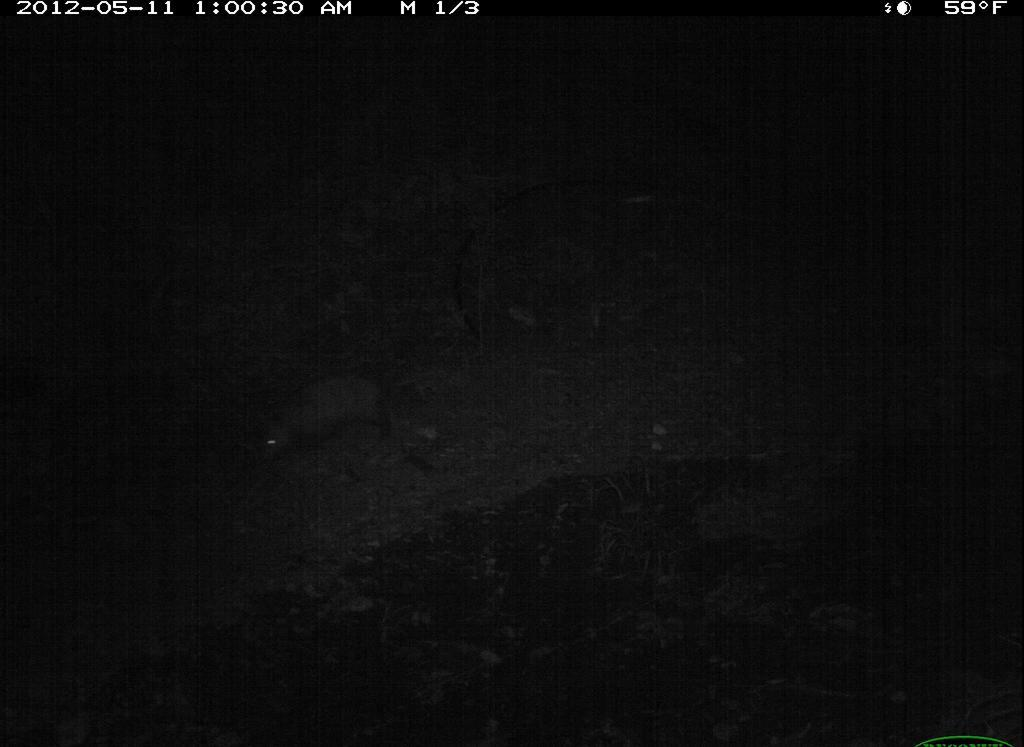opossum: (236, 359, 413, 465)
